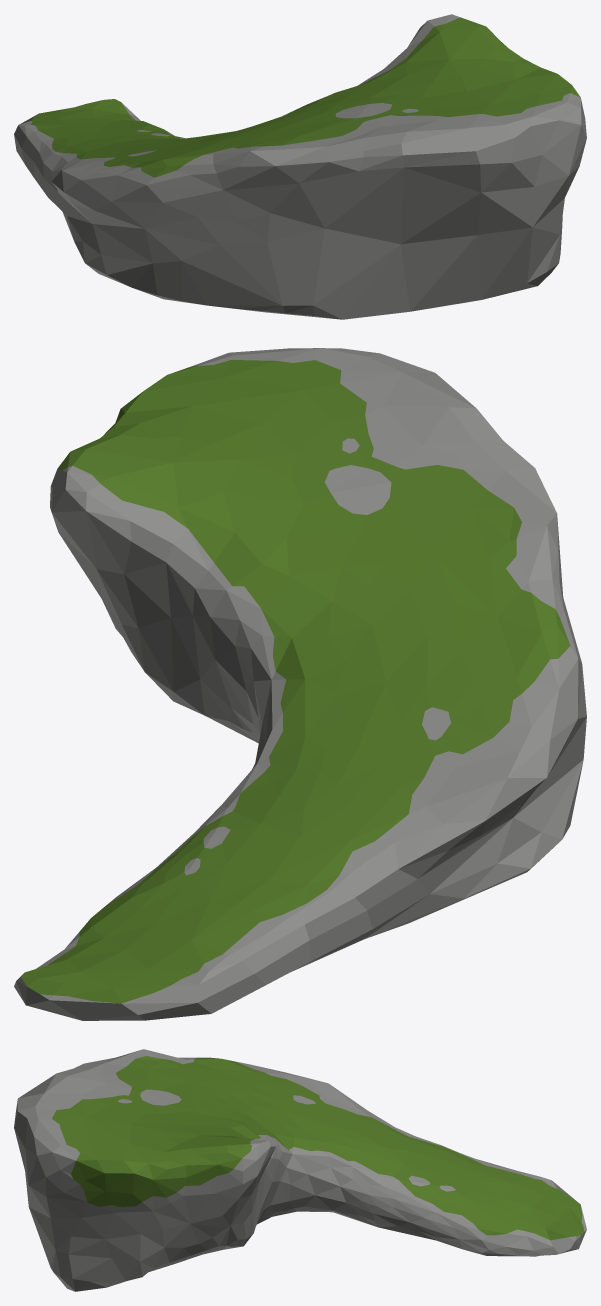
File: Cavern_FloorGrass_Narrow_Ramp_Lrg-04.fbx
The picture shows the model from 3 angles, top to bottom: view 1: azimuth 30°, elevation 25°; view 2: azimuth 150°, elevation 25°; view 3: azimuth 270°, elevation 25°; orthographic projection. The views are drawn at different scales.
Visible parts, largest first — view 1: Cavern_FloorGrass_Narrow_Ramp_Lrg-04; view 2: Cavern_FloorGrass_Narrow_Ramp_Lrg-04; view 3: Cavern_FloorGrass_Narrow_Ramp_Lrg-04.
Part boxes in pixels (x1=…): Cavern_FloorGrass_Narrow_Ramp_Lrg-04: x1=14, y1=14, x2=586, y2=319; Cavern_FloorGrass_Narrow_Ramp_Lrg-04: x1=14, y1=348, x2=586, y2=1020; Cavern_FloorGrass_Narrow_Ramp_Lrg-04: x1=14, y1=1049, x2=586, y2=1291.
Size of the model in its own units: 1233 by 630 by 1793.
Materials: 1 (1 with a texture image).
